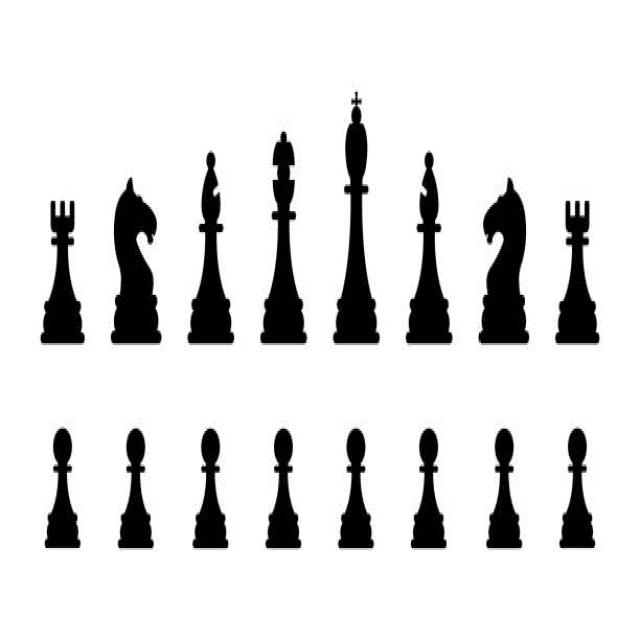black-bishop: (406, 150, 453, 345), (188, 150, 235, 345)
black-king: (332, 92, 380, 346)
black-knight: (110, 175, 162, 344), (478, 176, 530, 345)
black-pawn: (410, 426, 448, 550), (192, 426, 229, 551), (486, 426, 523, 550), (117, 426, 154, 550), (265, 426, 301, 551), (560, 426, 596, 550), (338, 426, 374, 550), (44, 426, 80, 548)
black-queen: (260, 132, 307, 345)
black-rook: (40, 200, 86, 345), (555, 201, 601, 345)
